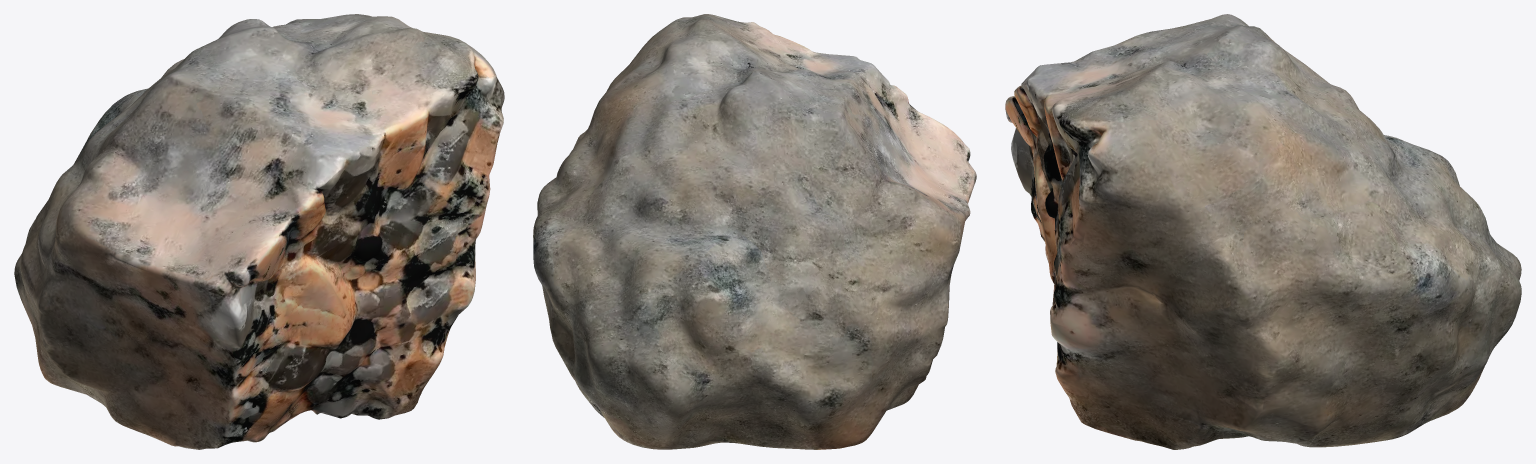
The model's file is granite.glb.
The picture shows the model from 3 angles, left to right: view 1: azimuth 30°, elevation 25°; view 2: azimuth 150°, elevation 25°; view 3: azimuth 270°, elevation 25°; orthographic projection. The views are drawn at different scales.
Parts seen in each view (by area): view 1: node_0; view 2: node_0; view 3: node_0.
Part boxes in pixels (bbox=[...]): node_0: bbox=[14, 14, 504, 449]; node_0: bbox=[533, 14, 976, 449]; node_0: bbox=[1005, 14, 1521, 449].
Size of the model in its own units: 1.01 by 0.7863 by 1.02.
1 material, 1 textured.
